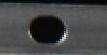holes: (27, 13, 68, 46)
